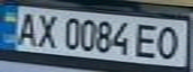0: (60, 15, 81, 51), (78, 16, 96, 52)
4: (112, 19, 136, 56)
8: (93, 18, 115, 54)
A: (12, 9, 42, 47)
E: (133, 20, 163, 60)
O: (151, 24, 184, 61)
X: (33, 11, 60, 50)
